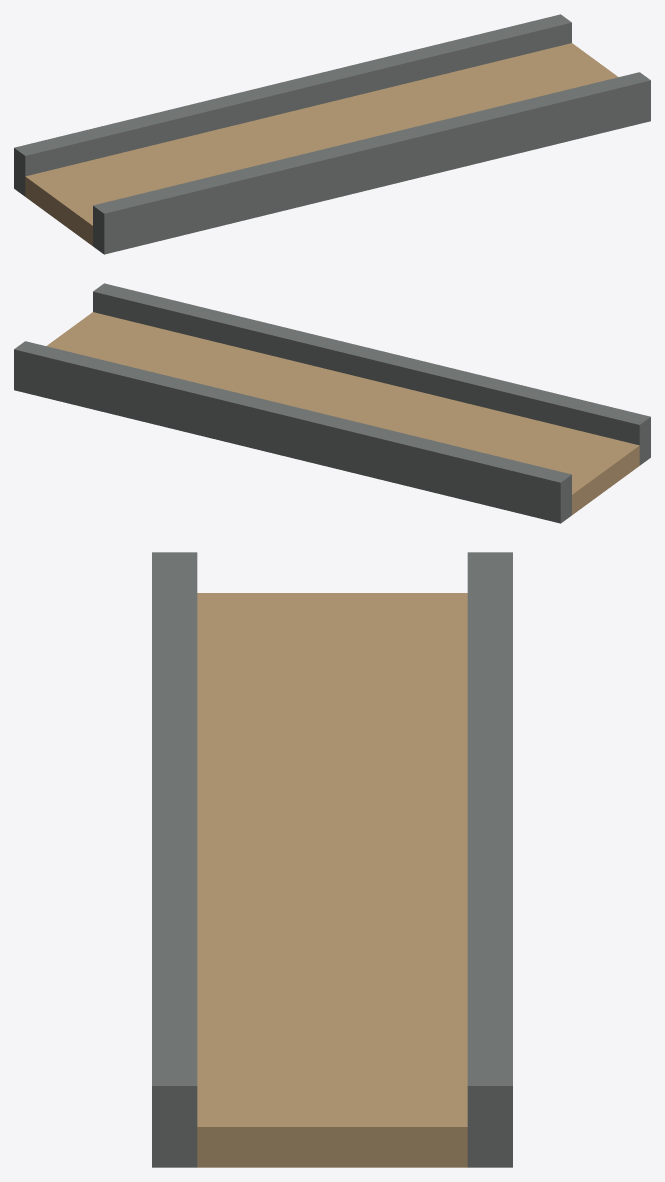
The model's file is Camino_01.fbx.
3 views of the same model, one above another, from view 1: azimuth 30°, elevation 25°; view 2: azimuth 150°, elevation 25°; view 3: azimuth 270°, elevation 25° (orthographic). The views are drawn at different scales.
Parts seen in each view (by area): view 1: camino_01_Aslfato; view 2: camino_01_Aslfato; view 3: camino_01_Aslfato.
Boxes of the visible parts, x1,y1,x2,y2 form: camino_01_Aslfato: [14, 14, 650, 254]; camino_01_Aslfato: [14, 283, 650, 523]; camino_01_Aslfato: [152, 552, 512, 1167].
Size of the model in its own units: 280 by 20 by 80.
Materials: 1 (1 with a texture image).
